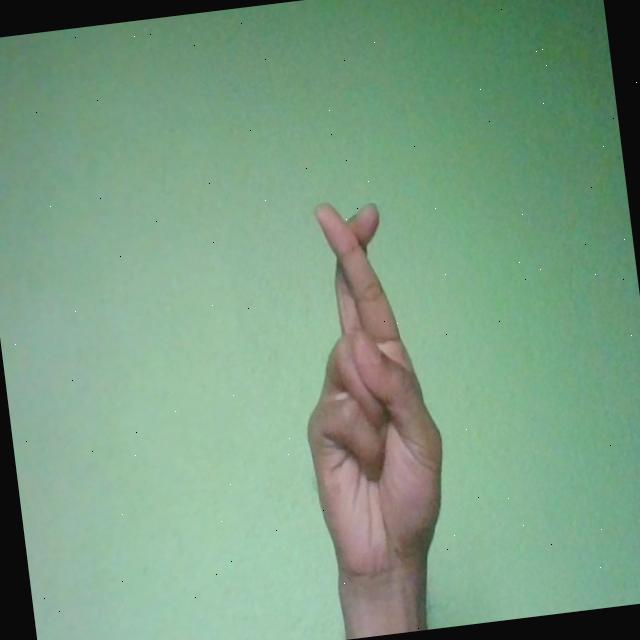Ok: (278, 192, 458, 588)
